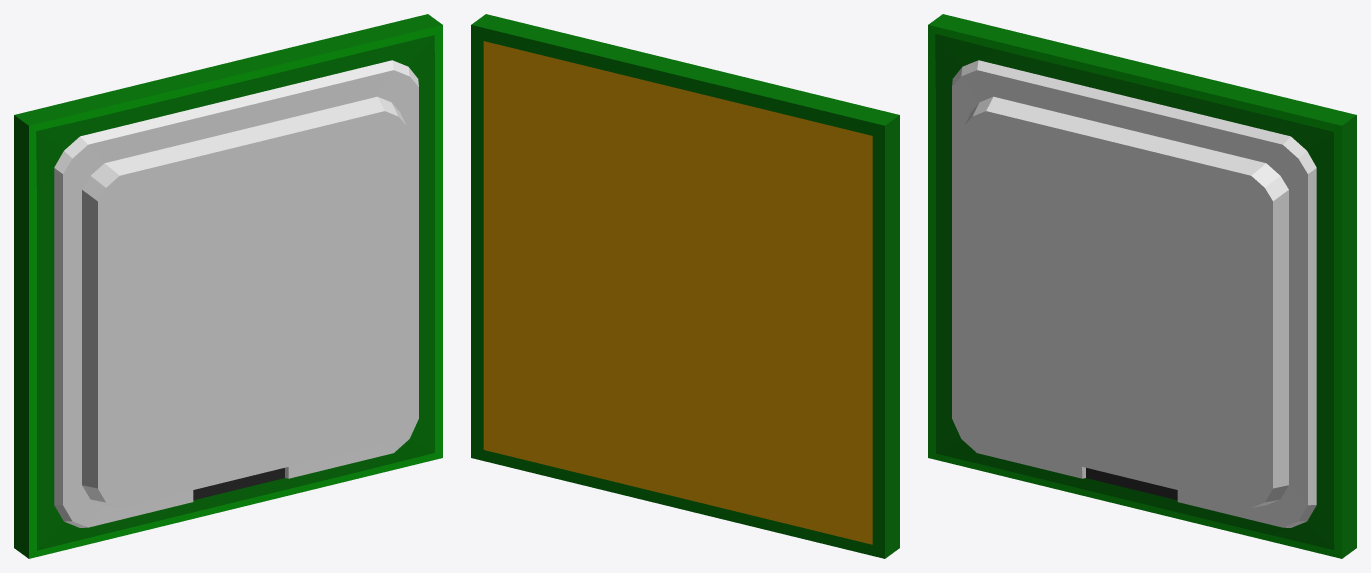
File: lga775_1_intel.fbx
The picture shows the model from 3 angles, left to right: view 1: azimuth 30°, elevation 25°; view 2: azimuth 150°, elevation 25°; view 3: azimuth 330°, elevation 25°; orthographic projection.
Parts seen in each view (by area): view 1: Plane.001; view 2: Plane.001; view 3: Plane.001.
Part boxes in pixels (left/top/right/bottom): Plane.001: left=14, top=14, right=442, bottom=558; Plane.001: left=471, top=14, right=899, bottom=558; Plane.001: left=928, top=14, right=1356, bottom=558.
Bounding box in the file's own units: 34.74 × 34.74 × 4.54.
